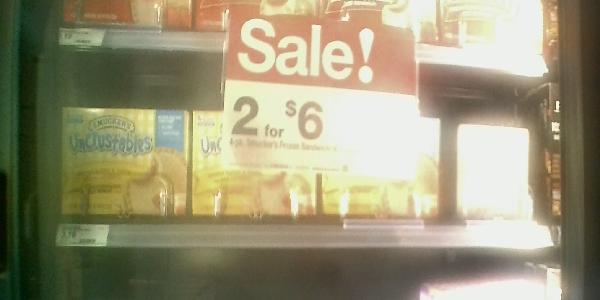icecream: (318, 95, 448, 240), (60, 93, 191, 230), (185, 105, 326, 229)
